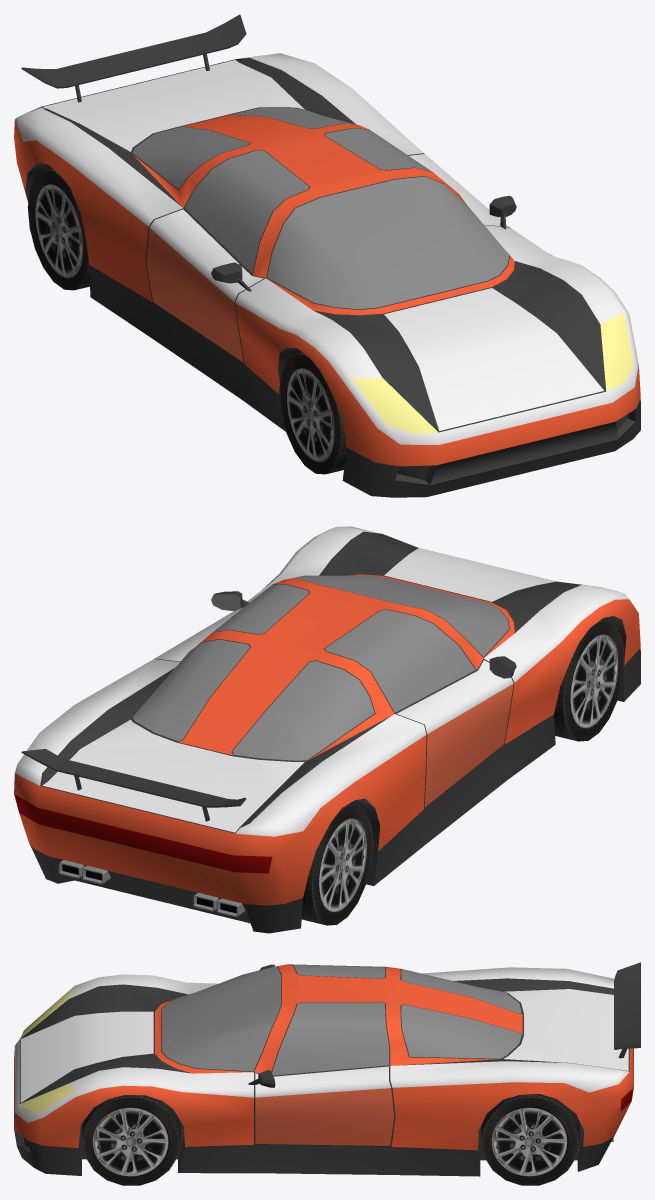
Rendered from Car 12.FBX.
The picture shows the model from 3 angles, top to bottom: view 1: azimuth 30°, elevation 25°; view 2: azimuth 150°, elevation 25°; view 3: azimuth 270°, elevation 25°; orthographic projection. The views are drawn at different scales.
Visible parts, largest first — view 1: Car 12; view 2: Car 12; view 3: Car 12.
Boxes of the visible parts, x1,y1,x2,y2 form: Car 12: (14, 14, 640, 497); Car 12: (14, 526, 640, 933); Car 12: (14, 962, 640, 1185).
Size of the model in its own units: 2.14 by 1.22 by 4.88.
